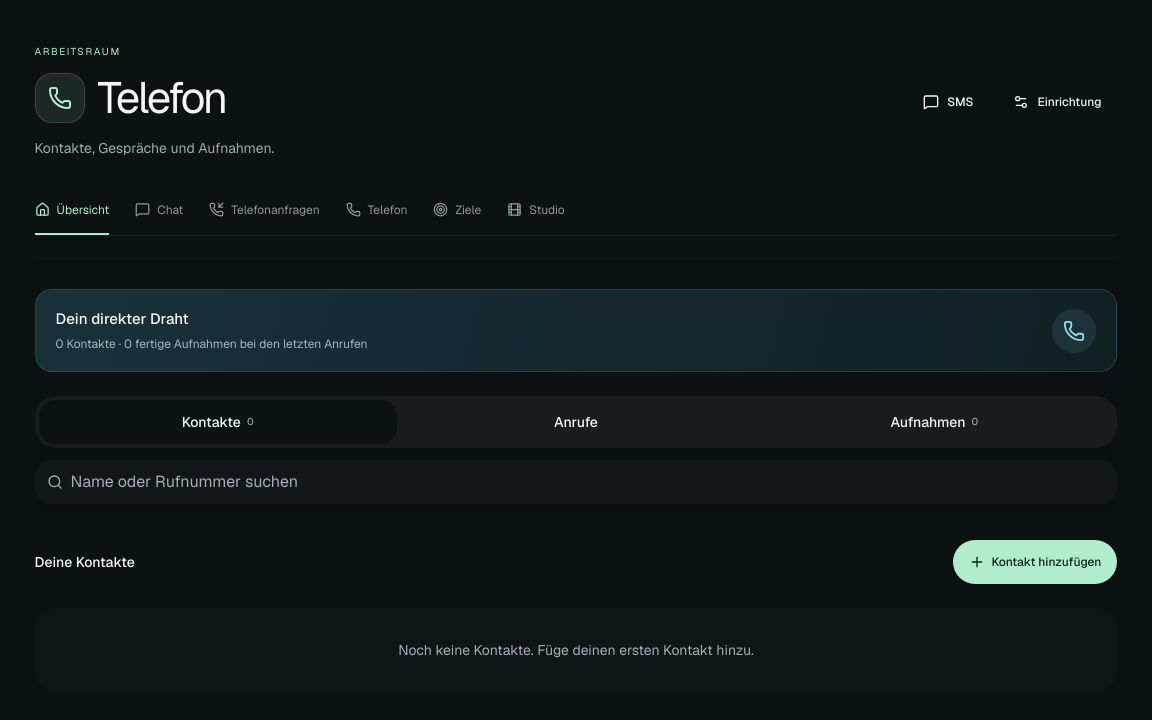
Test: Telefonkontakte › speichert Namen und ausdrückliche Aufnahmezustimmung getrennt von der Anruffreigabe
Click the button "Kontakt hinzufügen". click: {"x": 1036, "y": 562}
box: [954,540,1118,584]
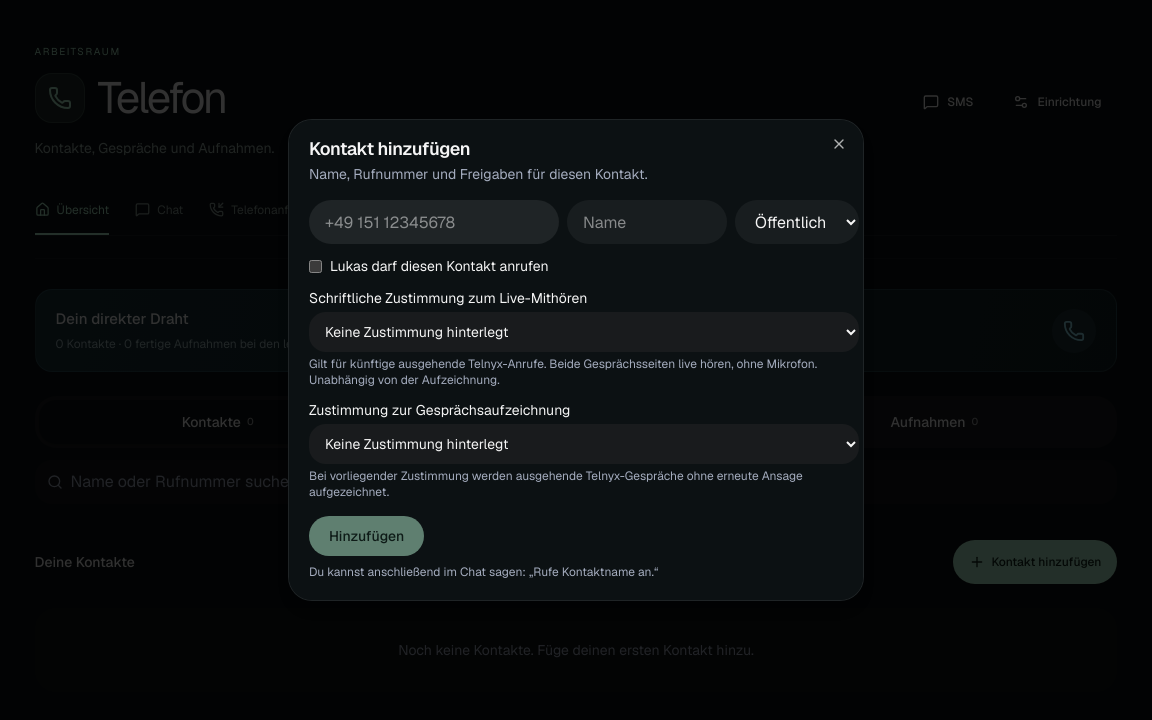
Type "+4915112345678" into the field named "Telefonnummer". click: {"x": 434, "y": 222}
box: [309,200,559,244]
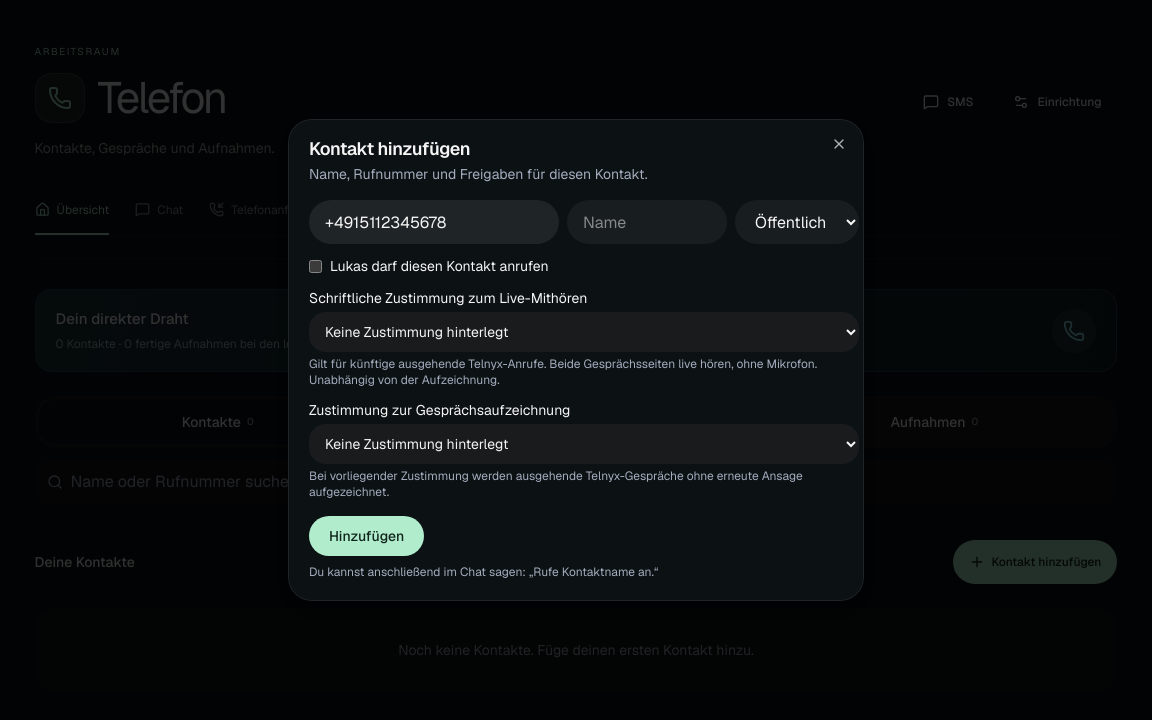
Type "Max Muster" into the field named "Kontaktname". click: {"x": 647, "y": 222}
box: [567,200,727,244]
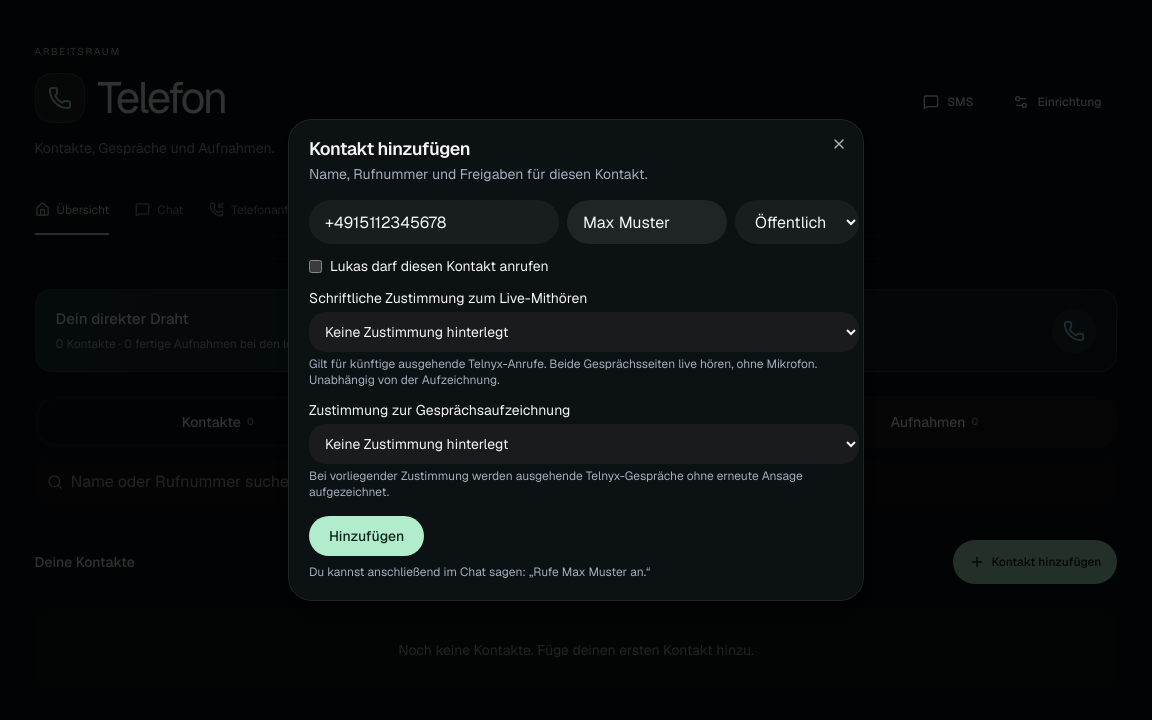
Result: the dropdown labelled "Zustimmung zur Gesprächsaufzeichnung" shows "Keine Zustimmung hinterlegt"
Select "Ja, per E-Mail" in the dropdown labelled "Zustimmung zur Gesprächsaufzeichnung". click: {"x": 584, "y": 444}
box: [309,424,859,464]
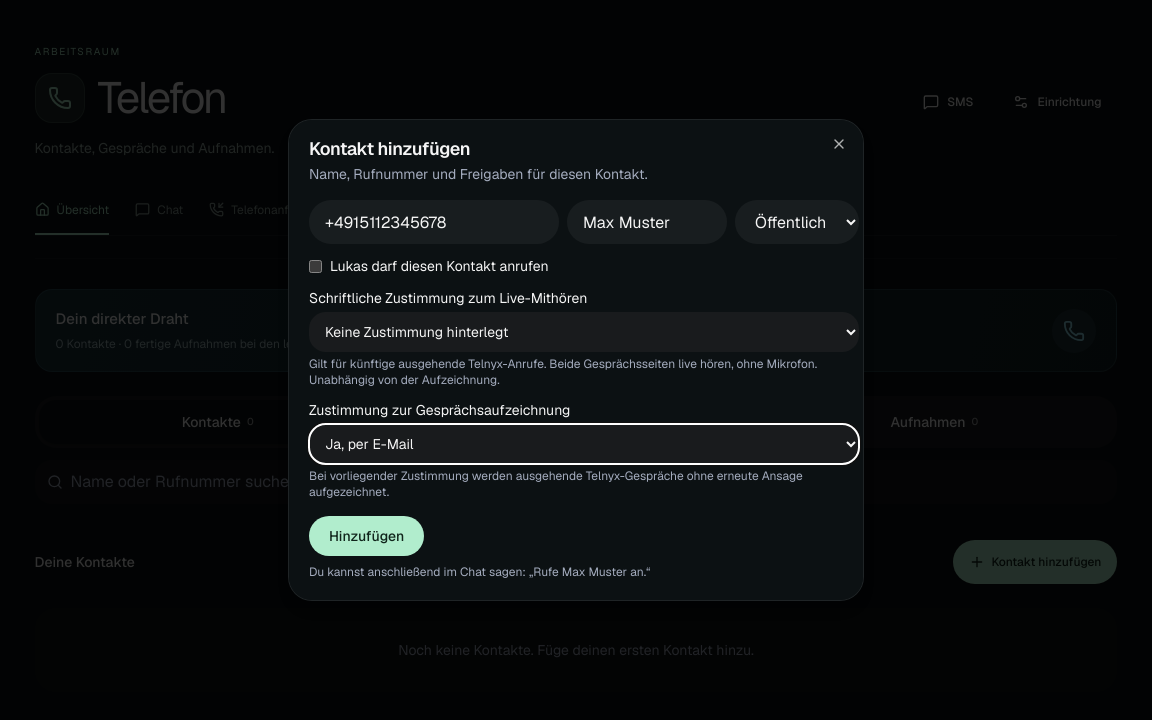
Result: the dropdown labelled "Schriftliche Zustimmung zum Live-Mithören" shows "Keine Zustimmung hinterlegt"
Select "Ja, schriftlich über die Homepage" in the dropdown labelled "Schriftliche Zustimmung zum Live-Mithören". click: {"x": 584, "y": 332}
box: [309,312,859,352]
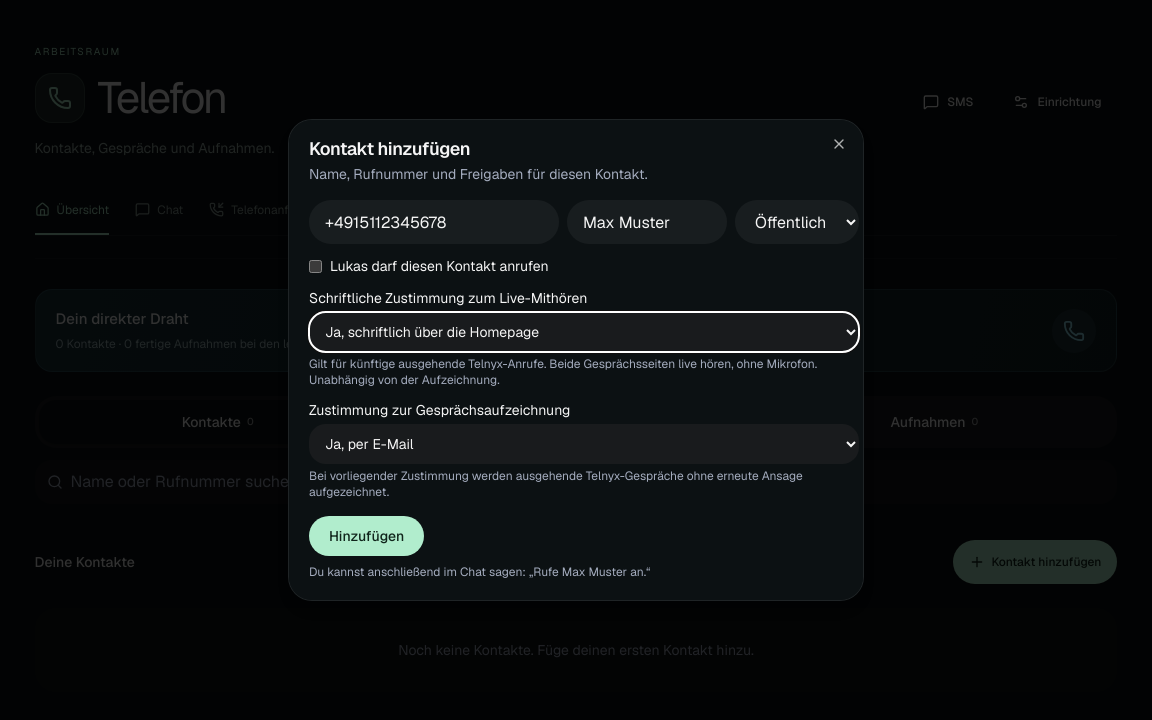
Click the button "Hinzufügen". click: {"x": 367, "y": 536}
box: [309,516,424,556]
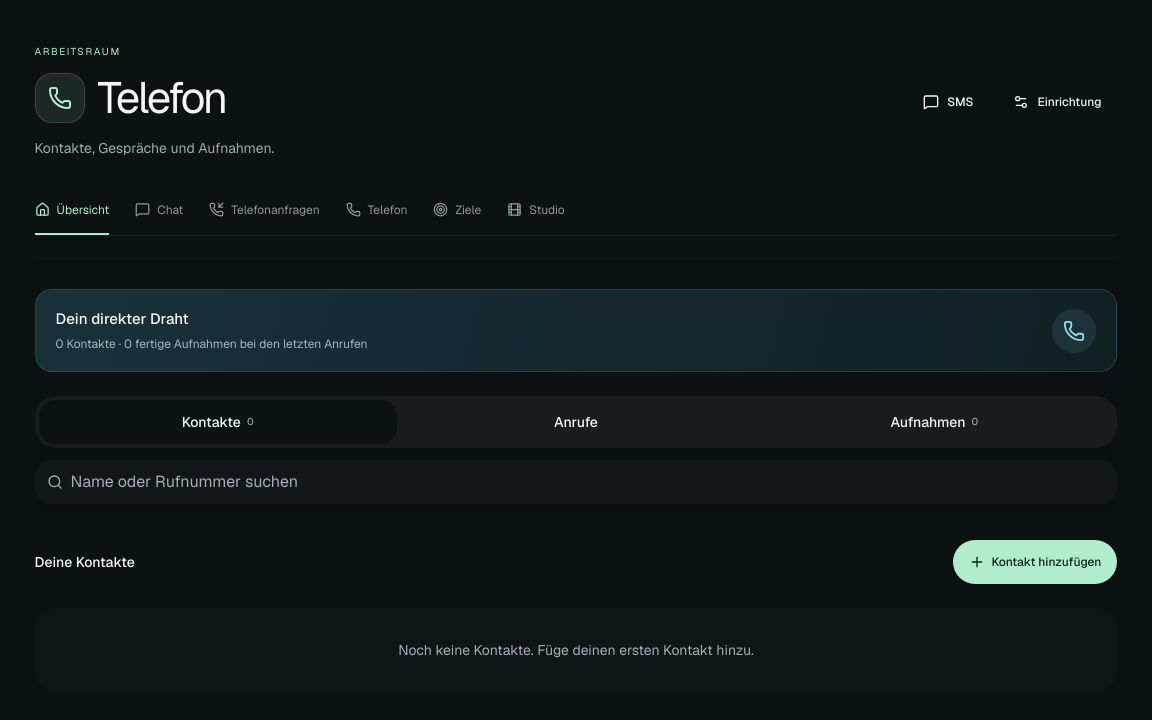
Result: the dialog is gone
